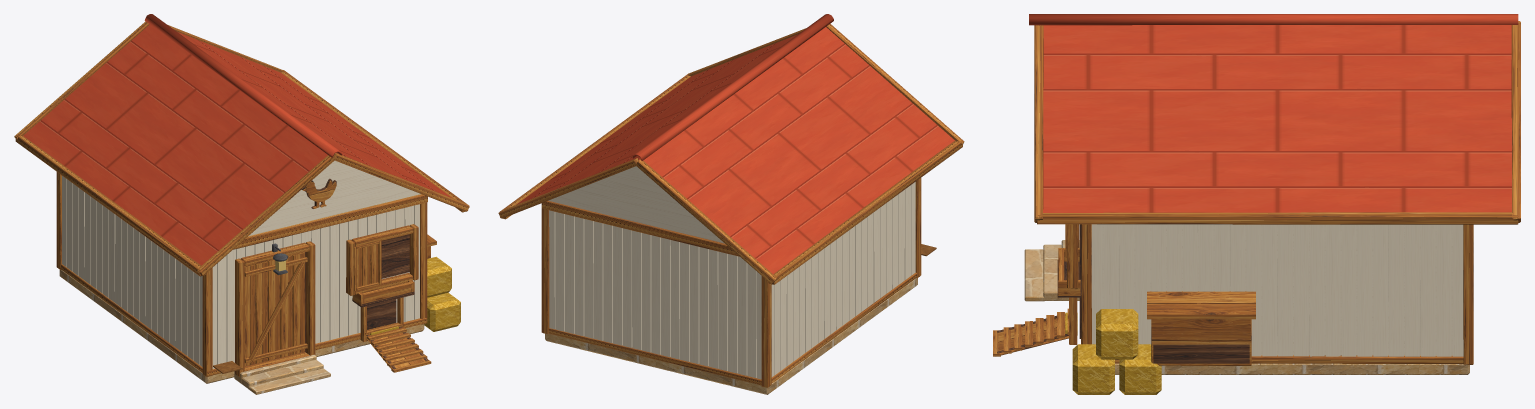
File: CoopExterior_Cozy_LOD2.fbx
The picture shows the model from 3 angles, left to right: view 1: azimuth 30°, elevation 25°; view 2: azimuth 150°, elevation 25°; view 3: azimuth 270°, elevation 25°; orthographic projection. The views are drawn at different scales.
Visible parts, largest first — view 1: CoopExterior_Cozy_LOD2; view 2: CoopExterior_Cozy_LOD2; view 3: CoopExterior_Cozy_LOD2.
Part boxes in pixels (x1,y1,x2,y2): CoopExterior_Cozy_LOD2: (14, 14, 469, 394); CoopExterior_Cozy_LOD2: (498, 14, 964, 394); CoopExterior_Cozy_LOD2: (993, 14, 1520, 394).
Size of the model in its own units: 7.78 by 5.92 by 9.71.
